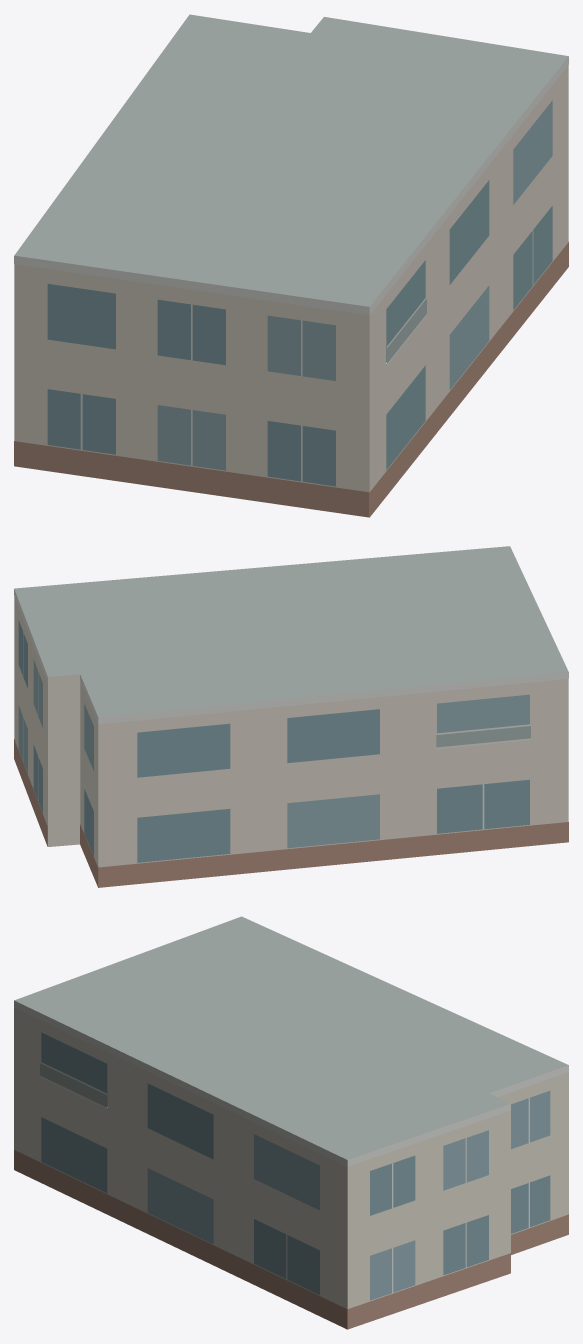
Rendered from survey-upis-32523313.glb.
The picture shows the model from 3 angles, top to bottom: view 1: azimuth 30°, elevation 25°; view 2: azimuth 150°, elevation 25°; view 3: azimuth 270°, elevation 25°; orthographic projection. The views are drawn at different scales.
Parts seen in each view (by area): view 1: survey-upis-32523313.tmp; view 2: survey-upis-32523313.tmp; view 3: survey-upis-32523313.tmp.
Boxes of the visible parts, x1,y1,x2,y2 form: survey-upis-32523313.tmp: (14, 14, 568, 517); survey-upis-32523313.tmp: (14, 546, 568, 887); survey-upis-32523313.tmp: (14, 916, 568, 1329).
Bounding box in the file's own units: 18.81 × 6.1 × 18.1.
